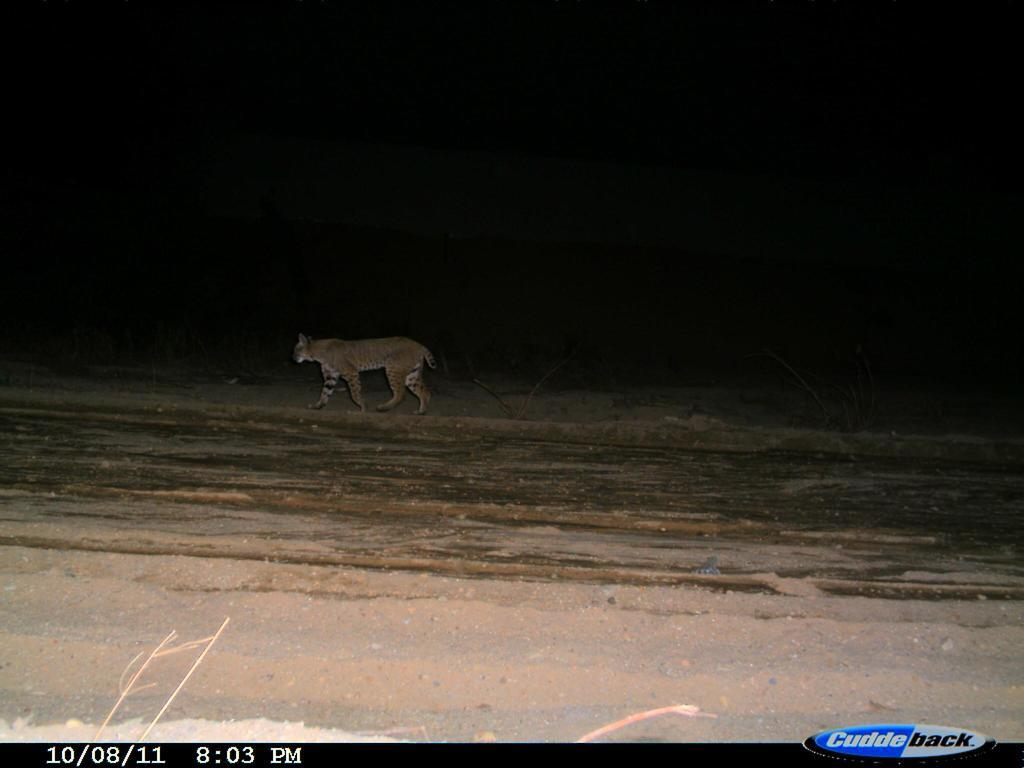bobcat: (281, 326, 437, 424)
